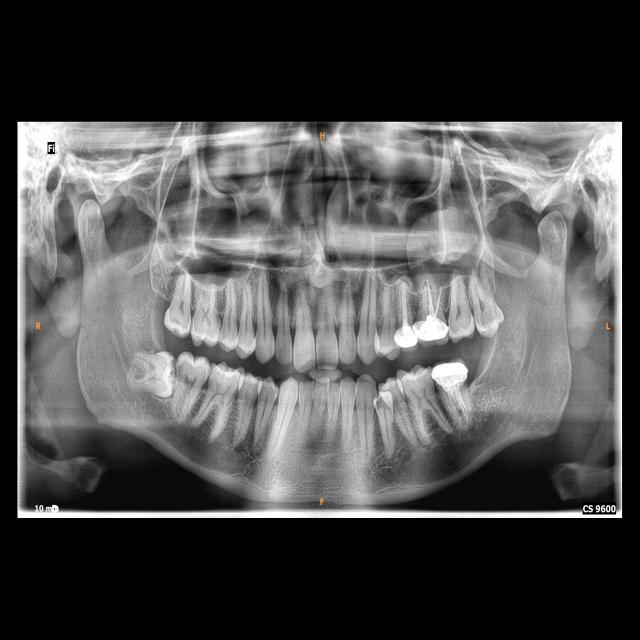kanal-tedavisi: (441, 385, 472, 431), (416, 277, 445, 319), (393, 280, 412, 323)
kaplama: (428, 360, 472, 393), (416, 318, 452, 342), (394, 323, 418, 350)
